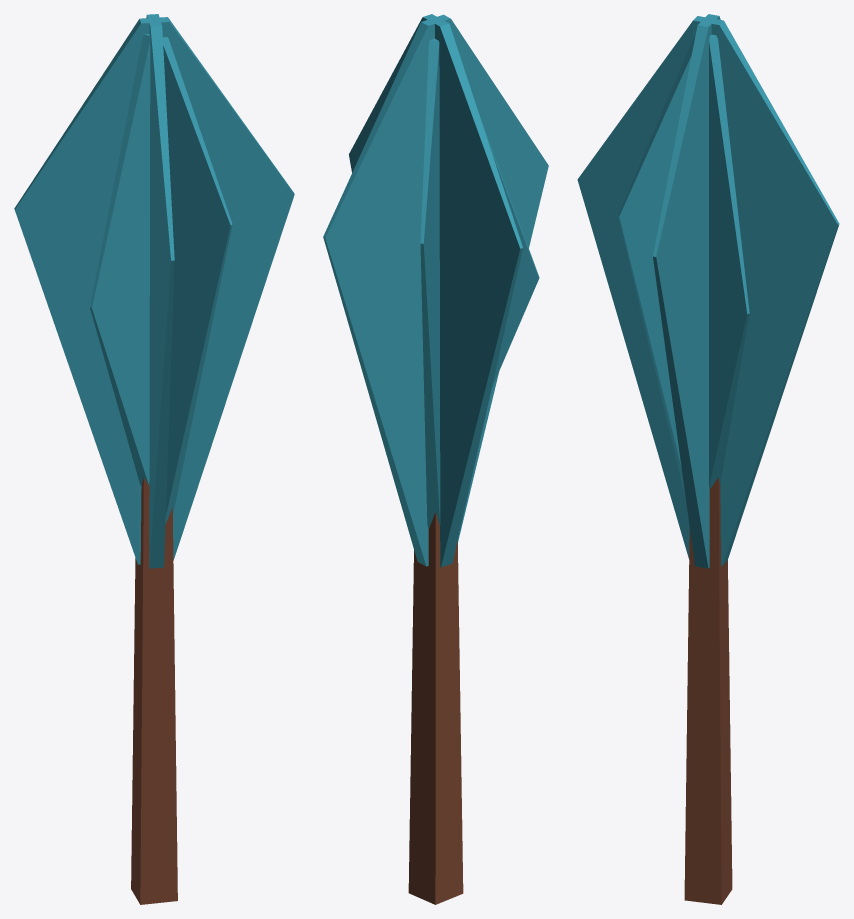
Rendered from Tree_33_summer_blue_vc.fbx.
3 renders of one model, left to right at view 1: azimuth 30°, elevation 25°; view 2: azimuth 150°, elevation 25°; view 3: azimuth 270°, elevation 25°, orthographic.
Visible parts, largest first — view 1: Tree_33_summer_blue_vc; view 2: Tree_33_summer_blue_vc; view 3: Tree_33_summer_blue_vc.
Boxes of the visible parts, x1=… form: Tree_33_summer_blue_vc: x1=14, y1=14, x2=294, y2=904; Tree_33_summer_blue_vc: x1=323, y1=14, x2=548, y2=904; Tree_33_summer_blue_vc: x1=577, y1=14, x2=839, y2=904.
Bounding box in the file's own units: 84.61 × 311 × 84.61.
